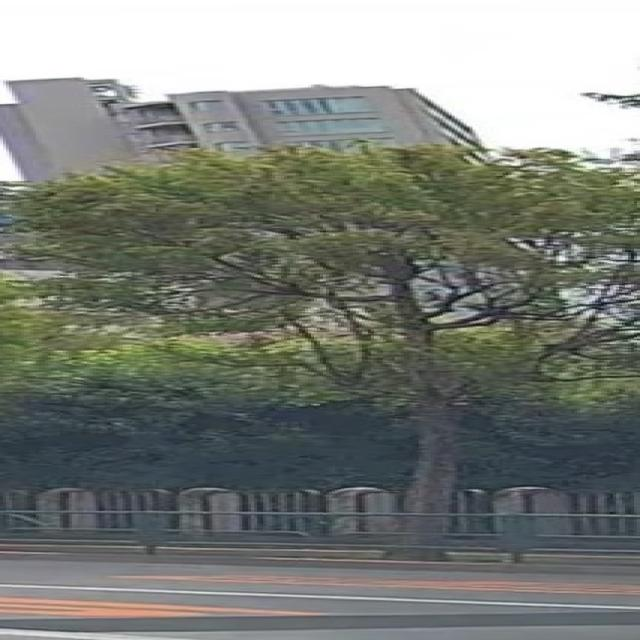maple: (0, 138, 640, 562)
